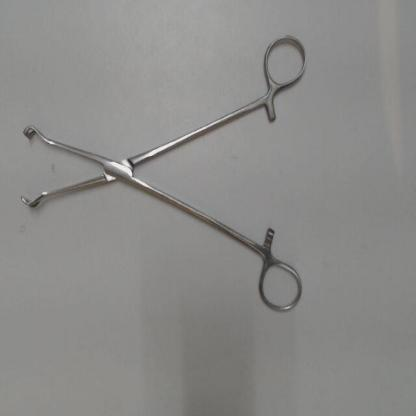8 Babcock Tissue Forceps: (15, 30, 310, 327)
